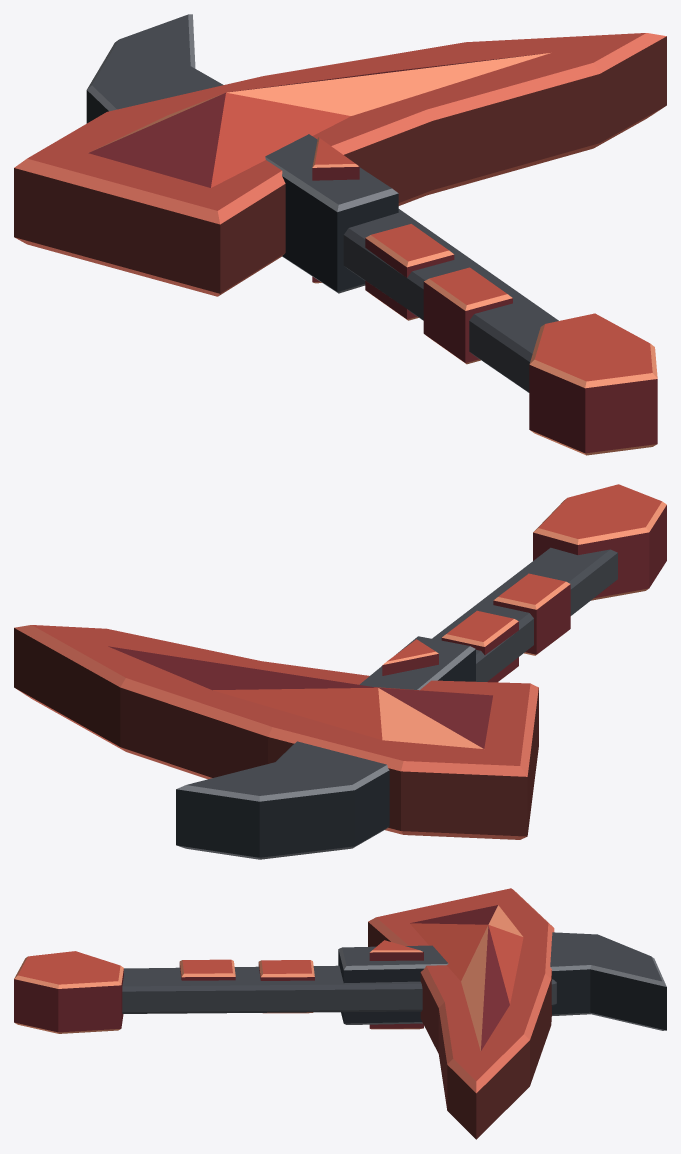
The model's file is reidite_pickaxe.fbx.
The picture shows the model from 3 angles, top to bottom: view 1: azimuth 30°, elevation 25°; view 2: azimuth 150°, elevation 25°; view 3: azimuth 270°, elevation 25°; orthographic projection. The views are drawn at different scales.
Parts seen in each view (by area): view 1: reidite_pickaxe; view 2: reidite_pickaxe; view 3: reidite_pickaxe.
Part boxes in pixels (x1,y1,x2,y2): reidite_pickaxe: [14, 14, 666, 455]; reidite_pickaxe: [14, 484, 666, 859]; reidite_pickaxe: [14, 888, 666, 1139].
Bounding box in the file's own units: 2.21 × 0.52 × 3.
1 material, 1 textured.
